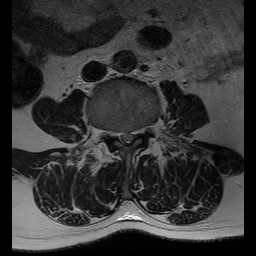CCS_severe_stenosis: (124, 124, 131, 153)
LFS_stenosis: (138, 118, 146, 141)
LLS_stenosis: (131, 122, 138, 150)
RFS_stenosis: (109, 119, 117, 146)
RLS_normal: (117, 123, 124, 150)
